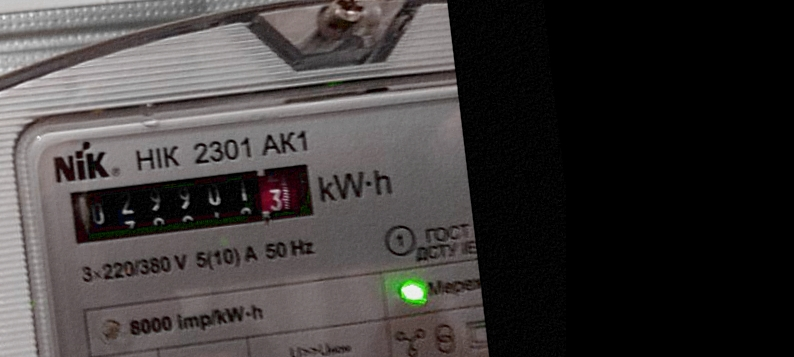0: (87, 198, 108, 227), (204, 178, 223, 209)
1: (235, 174, 251, 204)
2: (116, 189, 137, 218)
3: (265, 185, 285, 213)
9: (145, 185, 165, 214), (176, 183, 192, 211)
screen: (59, 153, 326, 255)
